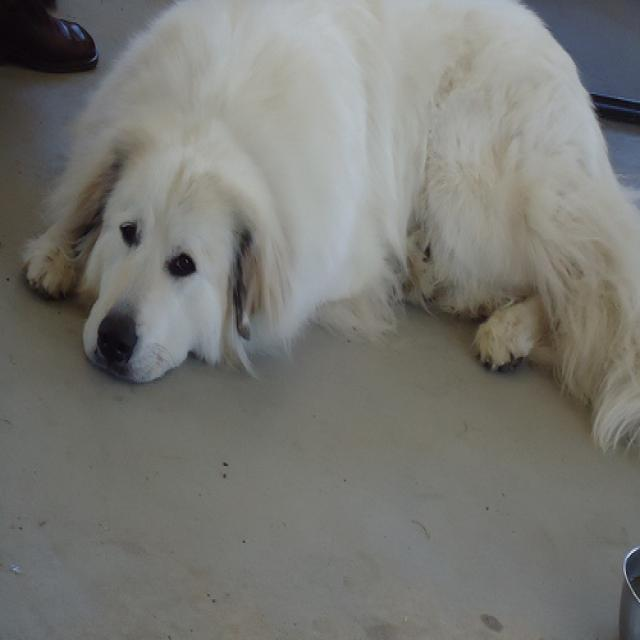dog-great_pyrenees: (9, 2, 637, 461)
